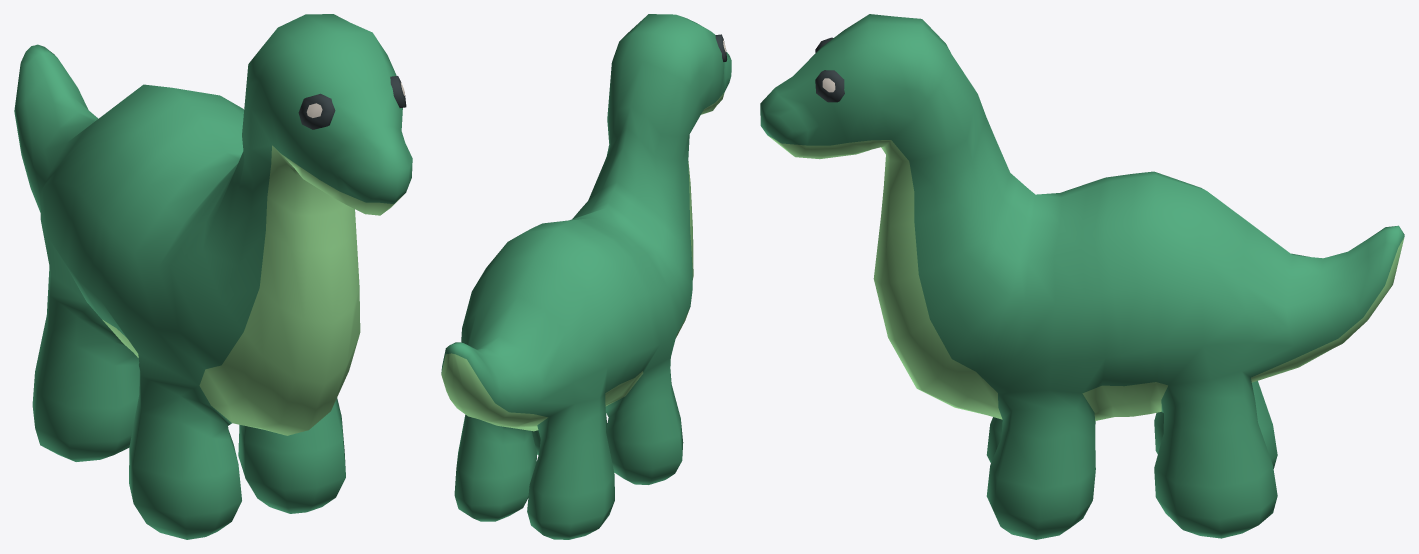
The model's file is Dinosaur_01.fbx.
3 views of the same model, side by side, from view 1: azimuth 30°, elevation 25°; view 2: azimuth 150°, elevation 25°; view 3: azimuth 270°, elevation 25° (orthographic). The views are drawn at different scales.
Parts seen in each view (by area): view 1: Dinosaur_01; view 2: Dinosaur_01; view 3: Dinosaur_01.
Part boxes in pixels (x1,y1,x2,y2): Dinosaur_01: [14, 14, 412, 539]; Dinosaur_01: [441, 14, 731, 539]; Dinosaur_01: [760, 14, 1404, 539].
Size of the model in its own units: 0.2052 by 0.4701 by 0.5685.
